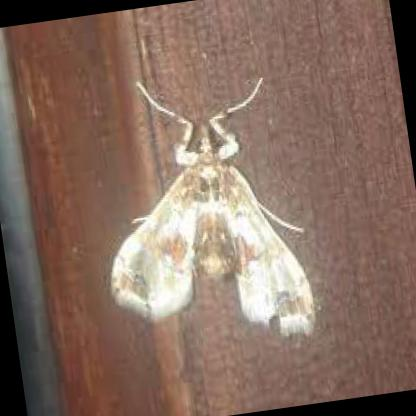leucinodes: (110, 122, 320, 337)
